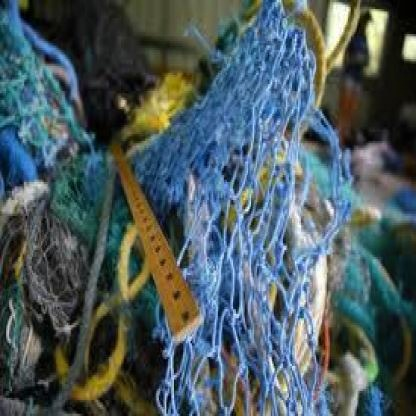net: (177, 16, 333, 409)
